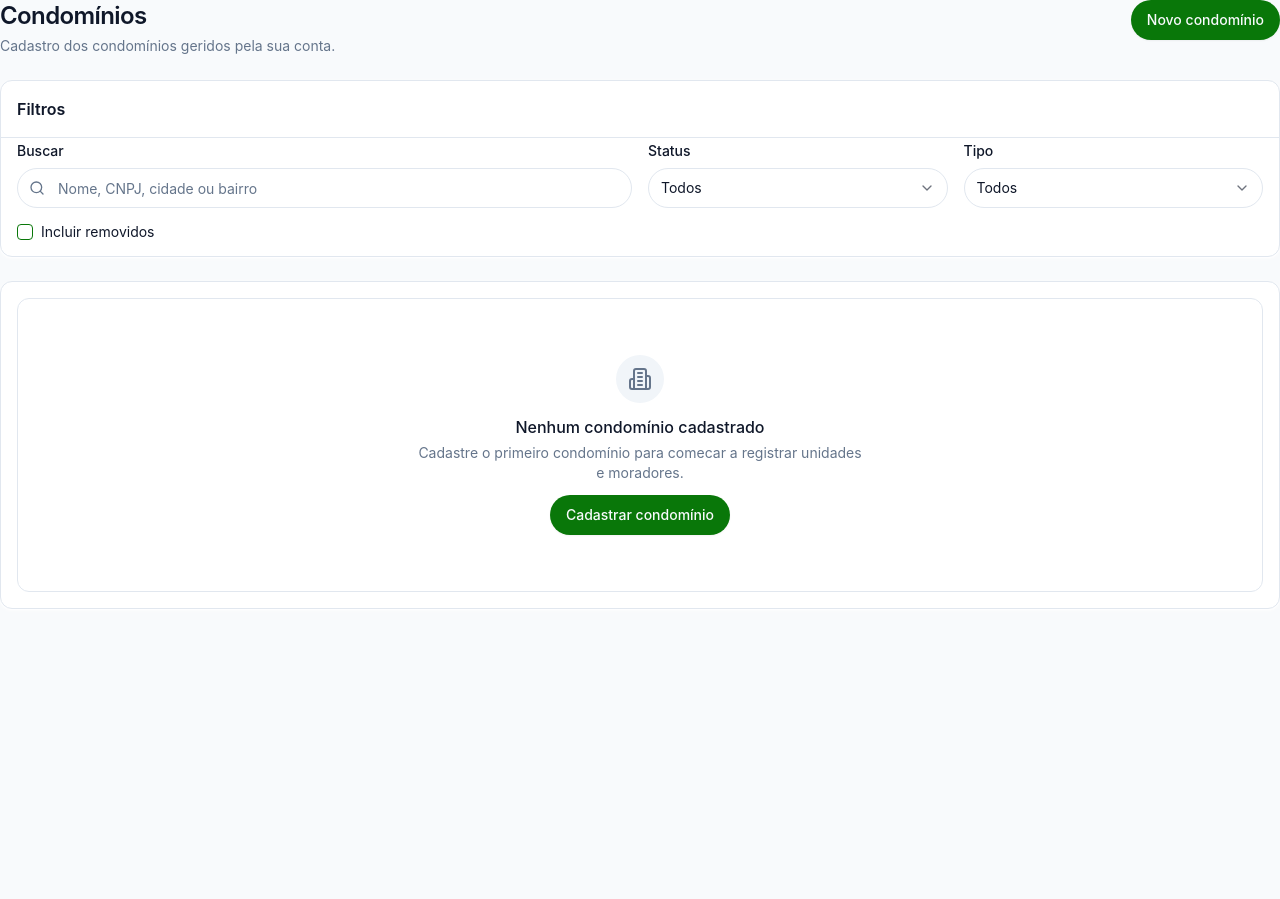
Test case: Cadastro de condomínio › IT-011: 409 de CNPJ duplicado aparece no formulário, sem marcar campo
This screenshot has width=1280, height=899.
expect the text "Nenhum condomínio cadastrado" is shown: met, box [516, 417, 764, 437]
Click the button "Novo condomínio". click: (1205, 20)
box: [1131, 0, 1279, 40]
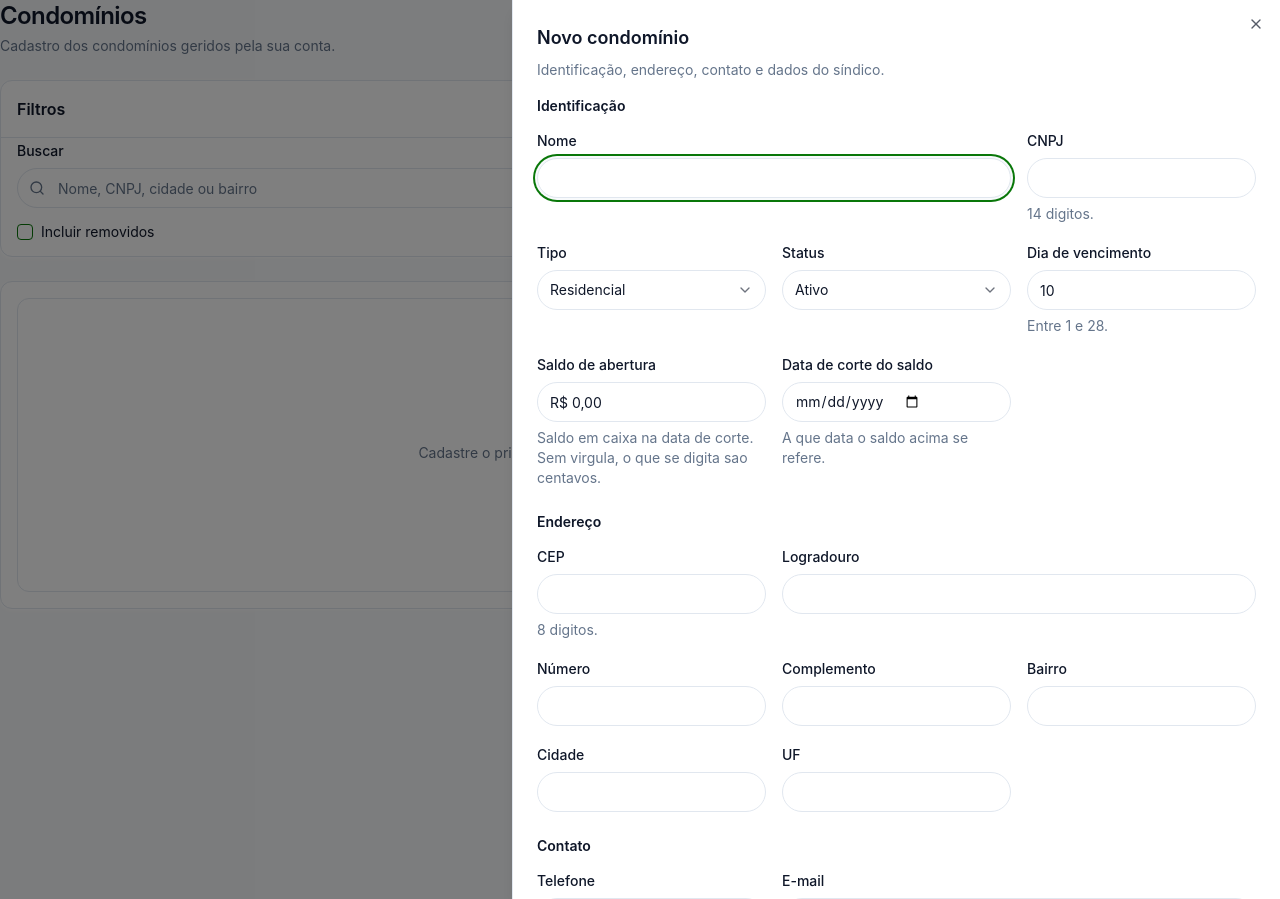
expect the field labelled "Nome" is shown: met
Type "Residencial Bosque" into the field labelled "Nome". click: (774, 178)
box: [537, 158, 1011, 198]
(page scrolled)
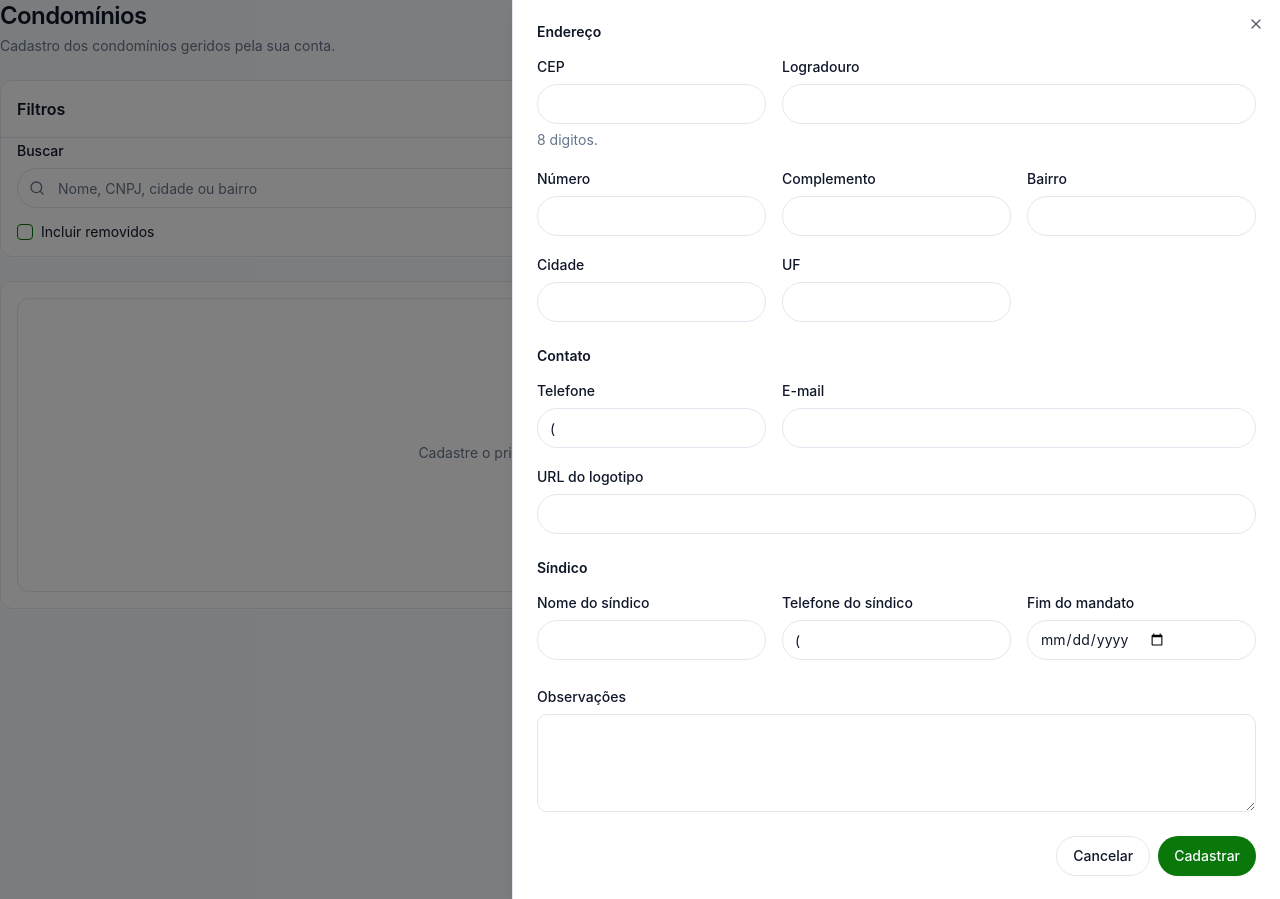
Click the button "Cadastrar". click: (1207, 856)
box: [1158, 836, 1256, 876]
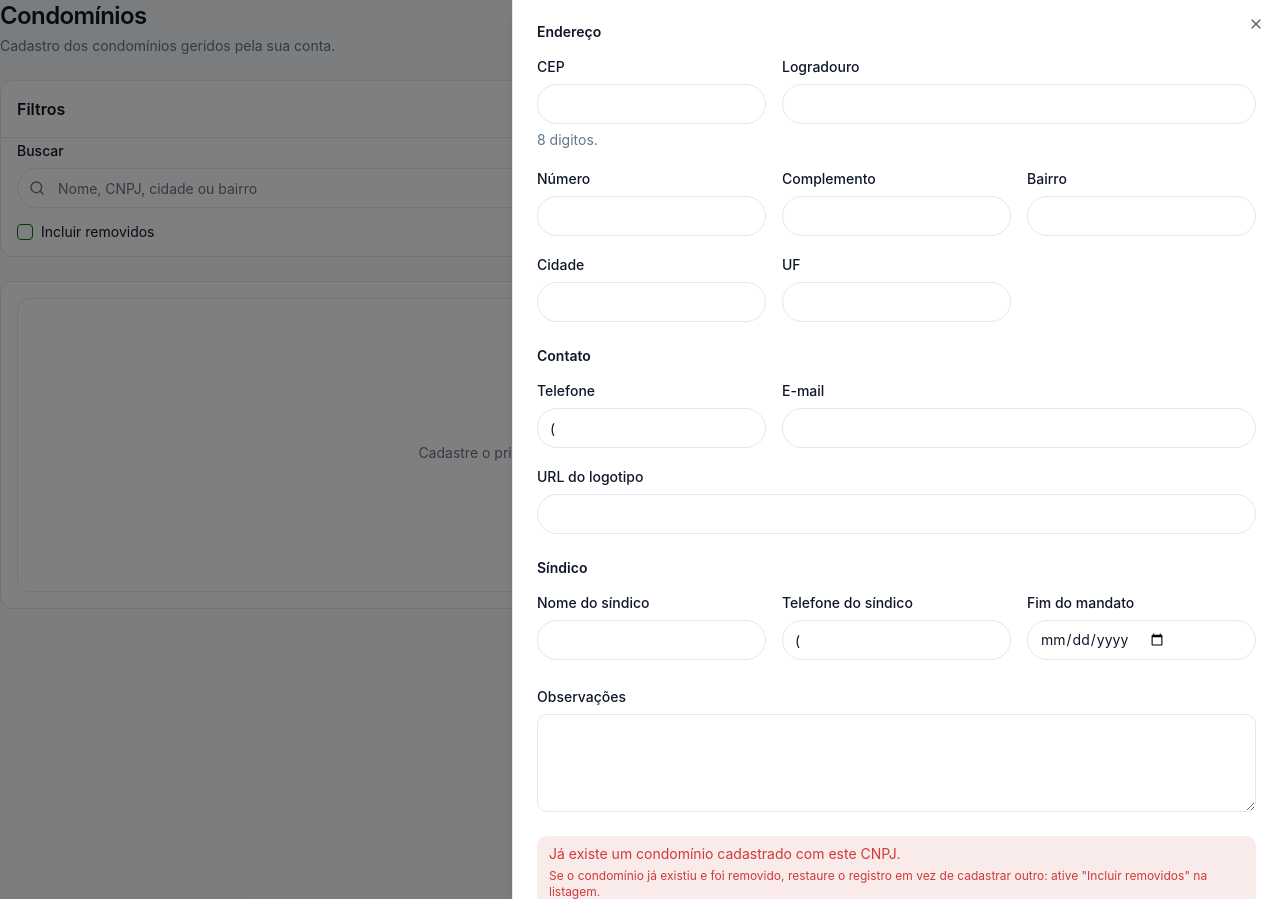
expect the text "Já existe um condomínio cadastrado com este CNPJ." is shown: met, box [549, 845, 900, 862]
